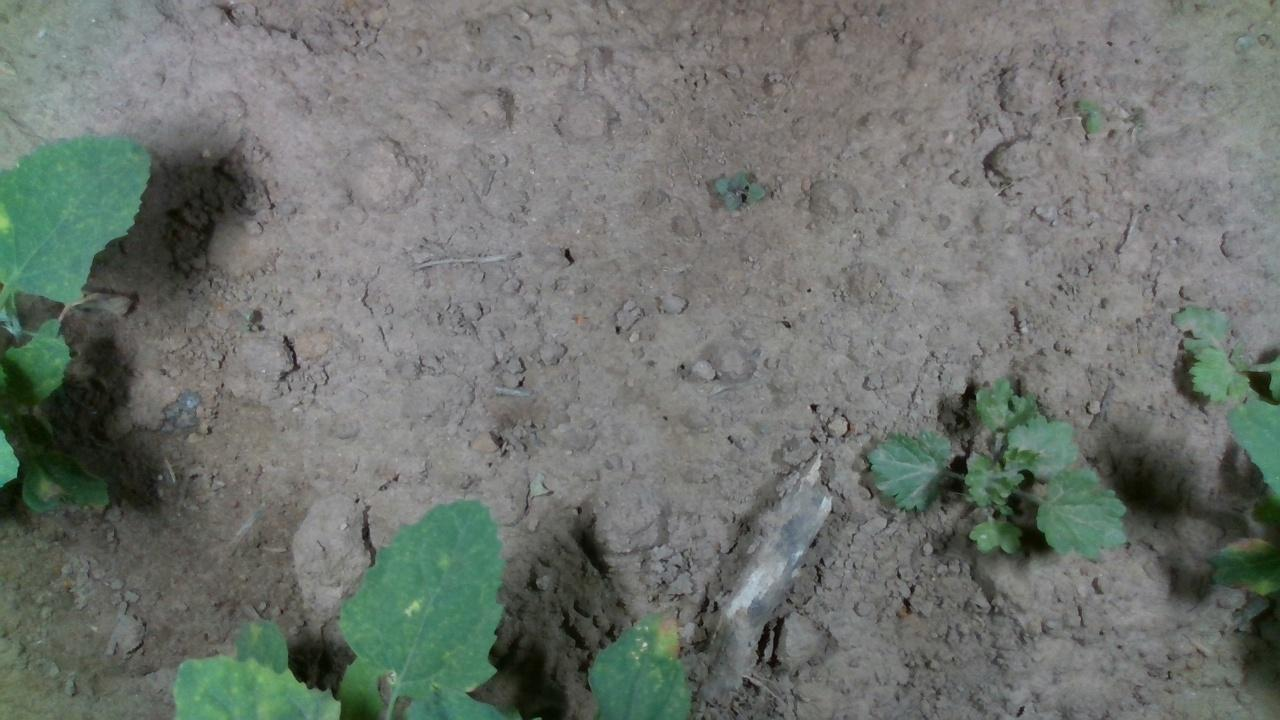weed: (710, 165, 768, 218)
